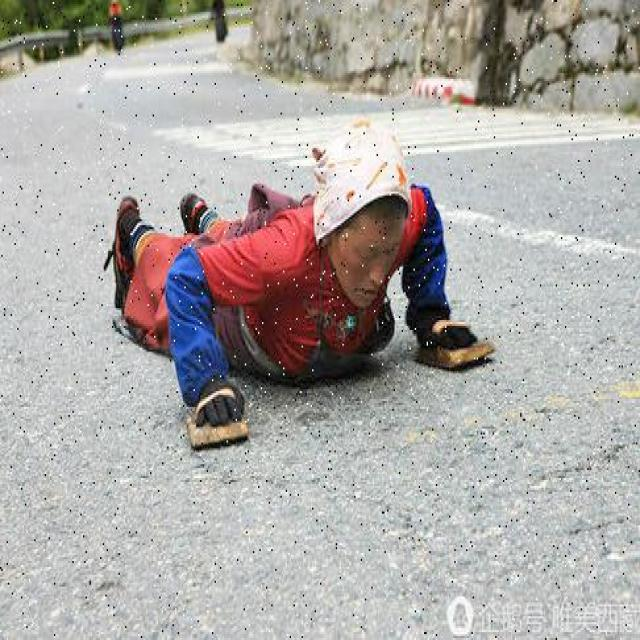fall: (113, 166, 474, 426)
